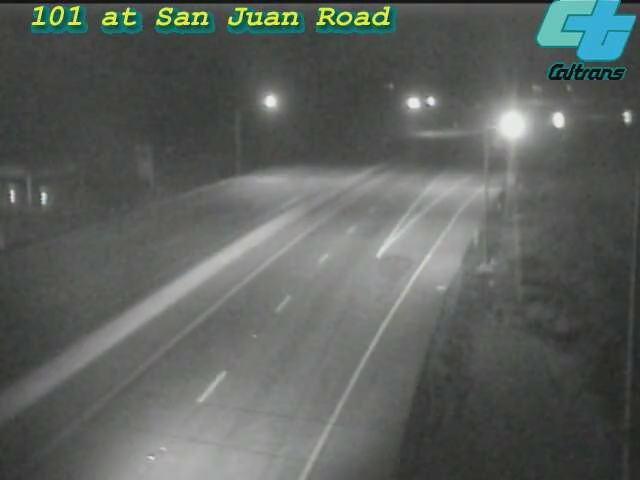vehicle: (486, 101, 536, 151), (532, 94, 582, 144)
